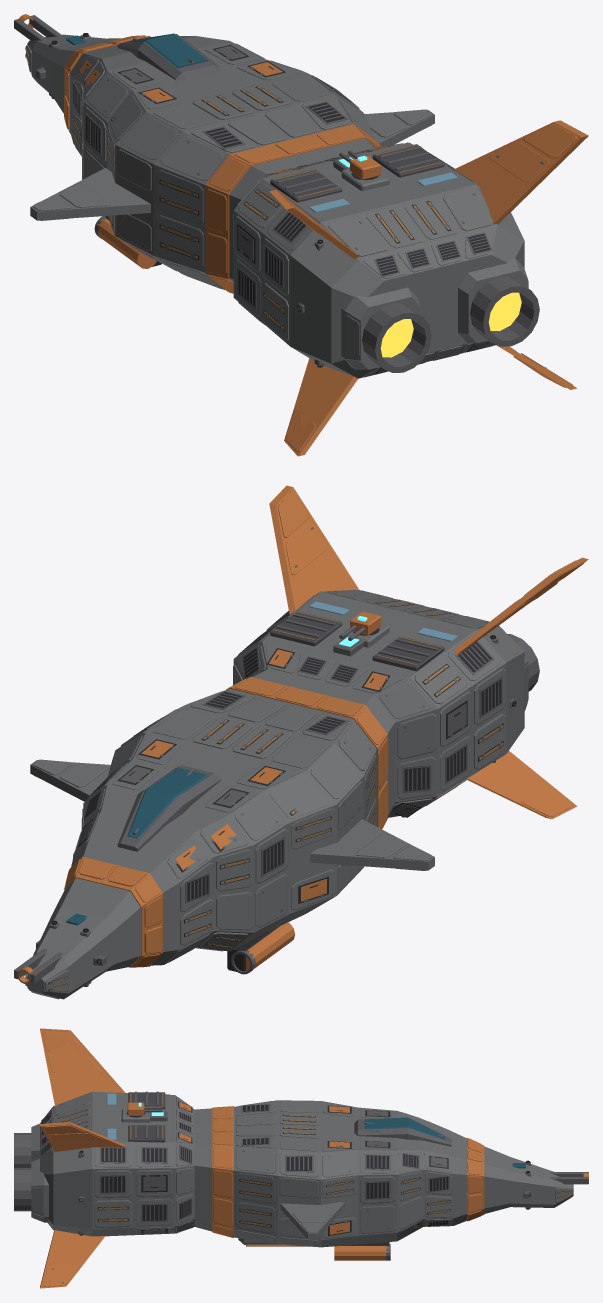
File: mars_assault_t3.glb
3 views of the same model, one above another, from view 1: azimuth 30°, elevation 25°; view 2: azimuth 150°, elevation 25°; view 3: azimuth 270°, elevation 25° (orthographic). The views are drawn at different scales.
Visible parts, largest first — view 1: FleetHull; view 2: FleetHull; view 3: FleetHull.
Boxes of the visible parts, x1,y1,x2,y2 form: FleetHull: (14,14,588,456); FleetHull: (14,485,588,999); FleetHull: (14,1028,588,1288).
Bounding box in the file's own units: 14 × 8.4 × 26.4.
